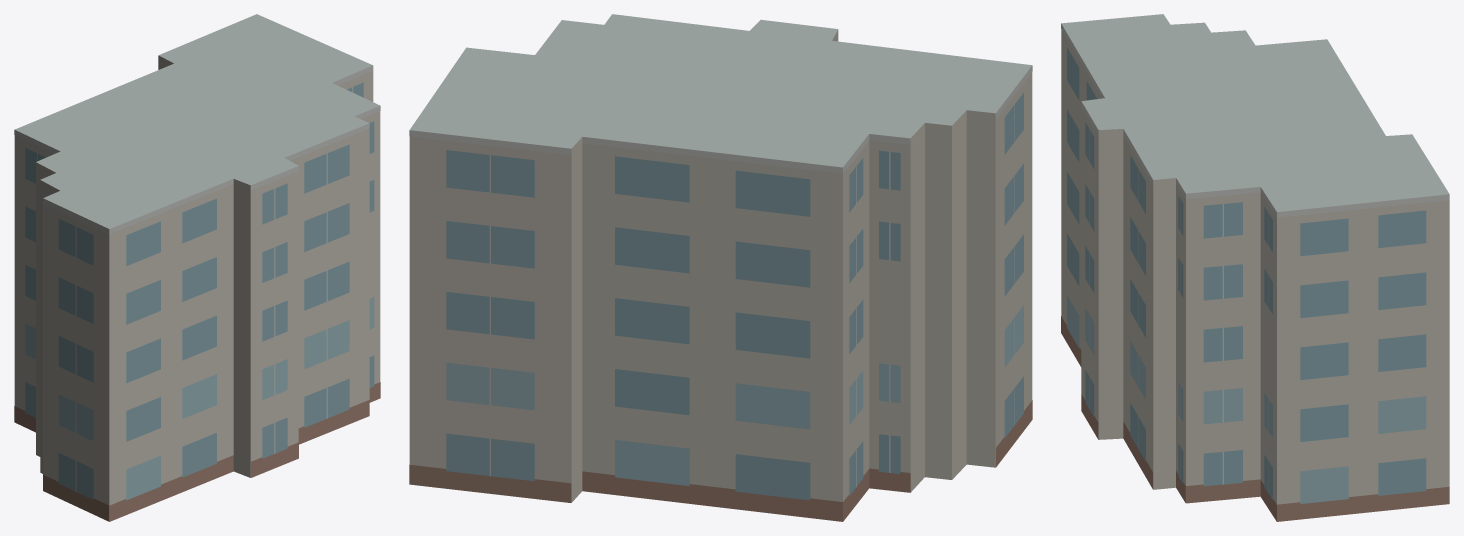
The model's file is survey-upis-32592921.glb.
The picture shows the model from 3 angles, left to right: view 1: azimuth 30°, elevation 25°; view 2: azimuth 150°, elevation 25°; view 3: azimuth 270°, elevation 25°; orthographic projection. The views are drawn at different scales.
Visible parts, largest first — view 1: survey-upis-32592921.tmp; view 2: survey-upis-32592921.tmp; view 3: survey-upis-32592921.tmp.
Part boxes in pixels (x1,y1,x2,y2): survey-upis-32592921.tmp: [14, 14, 380, 521]; survey-upis-32592921.tmp: [409, 14, 1032, 521]; survey-upis-32592921.tmp: [1061, 14, 1449, 521].
Size of the model in its own units: 18.6 by 13.55 by 15.41.
